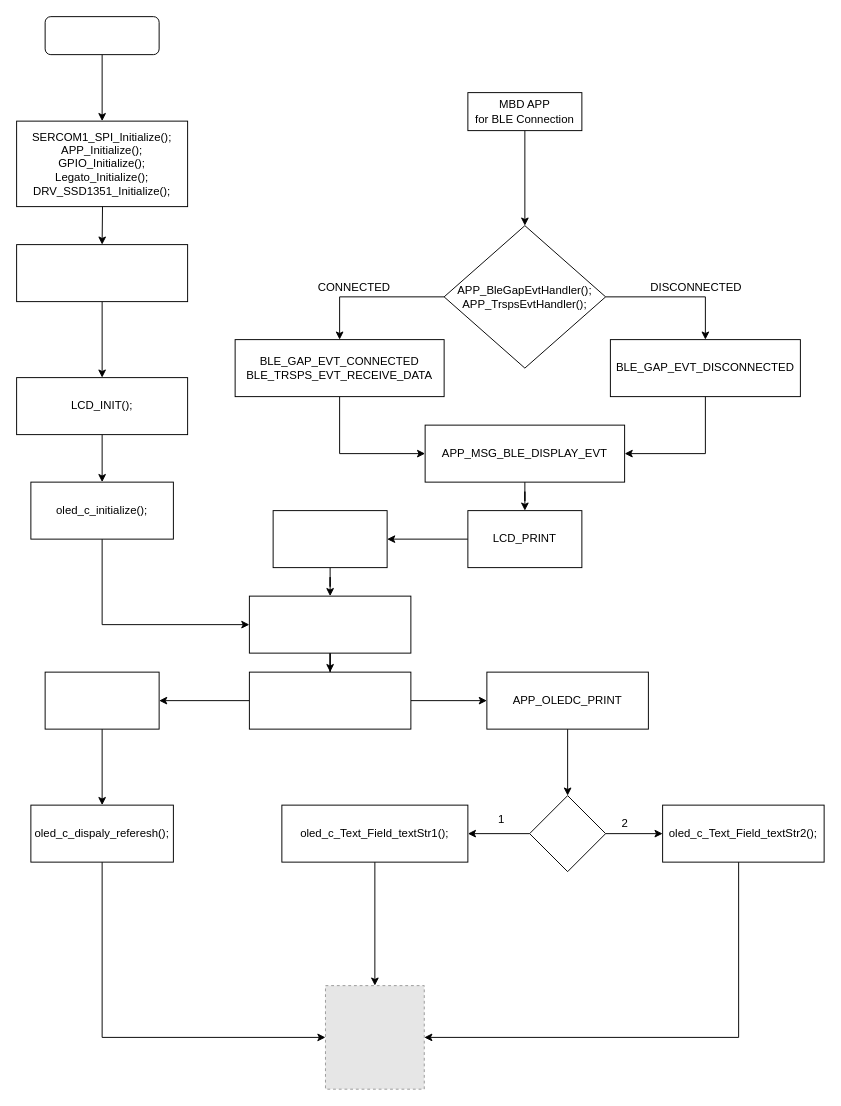
Image size: 841x1106. Some labels were removed from this diagram. Grey dashed boxes stand in for pictures. The shapes that lost their labels are listed below. From the top down, each one's centre as x and y in pixels, then its label:
At (101,35): "START".
At (102,273): "oled_c_initialize(); oled_c_dispaly_referesh();".
At (329,539): "oled_c_print();".
At (329,624): "APP_MSG_OLEDC_EVT".
At (101,700): "APP_OLEDC_INIT".
At (329,700): "APP_OLEDC_Handler();".
At (567,833): "LINE NUMBER".
